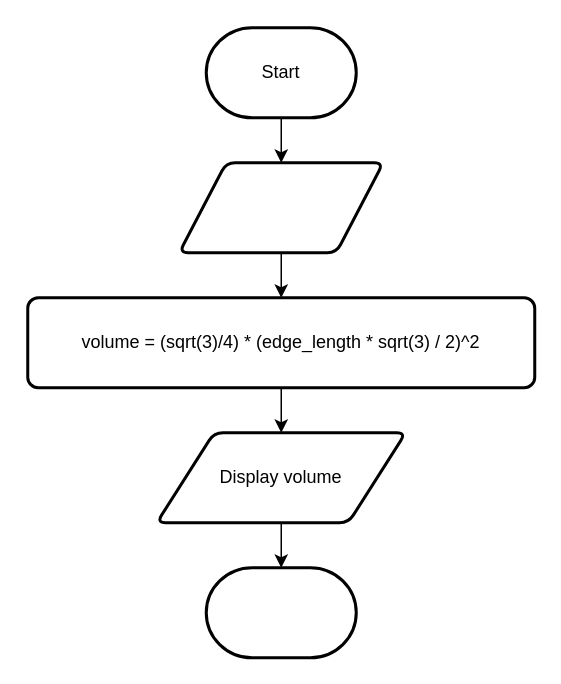
Image size: 561x684. Some labels were removed from this diagram. Here are the shapes that lost their labels. From the top down, the centre of each, then its label:
At [280,207]: "Get edge_length".
At [280,612]: "Stop".
